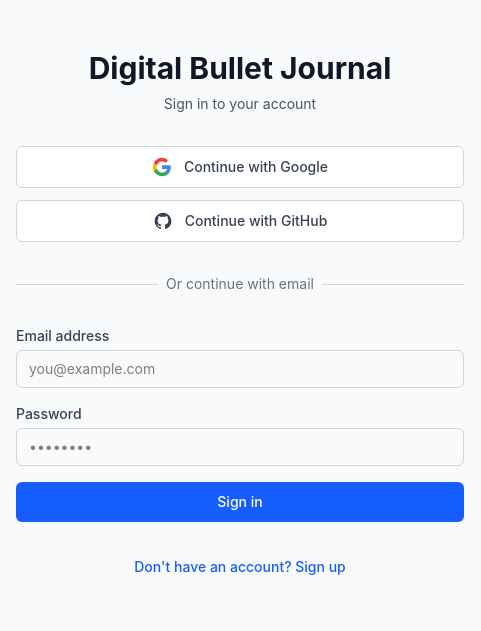
Scenario: SignInPage › shows validation error when password is empty on submit
Type "test@example.com" into the field labelled "Email address". click: (240, 369)
box: [16, 350, 464, 388]
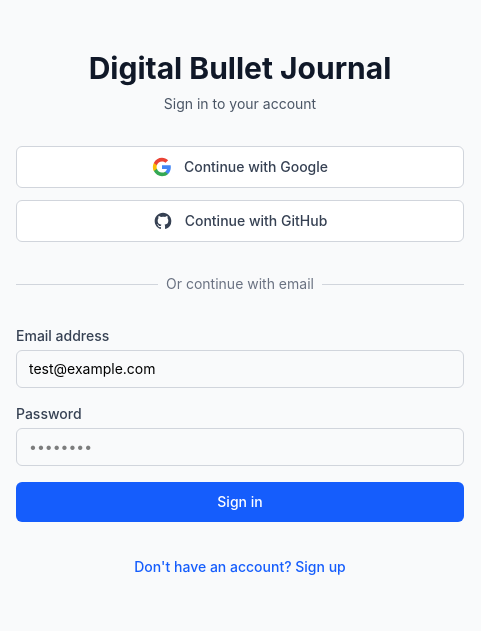
Click the button "Sign in". click: (240, 502)
box: [16, 482, 464, 522]
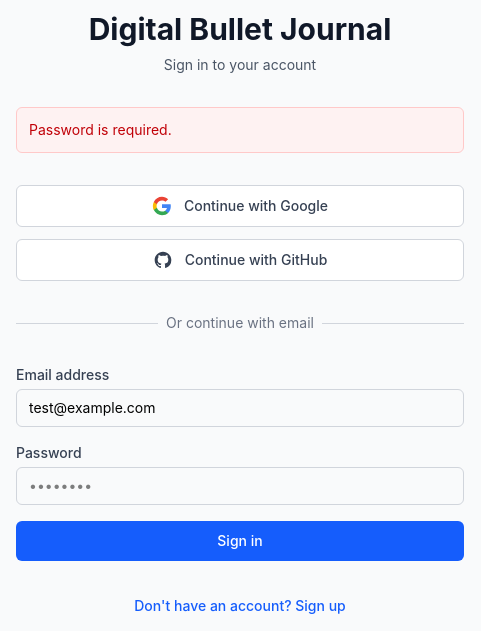
Expected: the text "Password is required." is shown, [29, 121, 172, 138]
